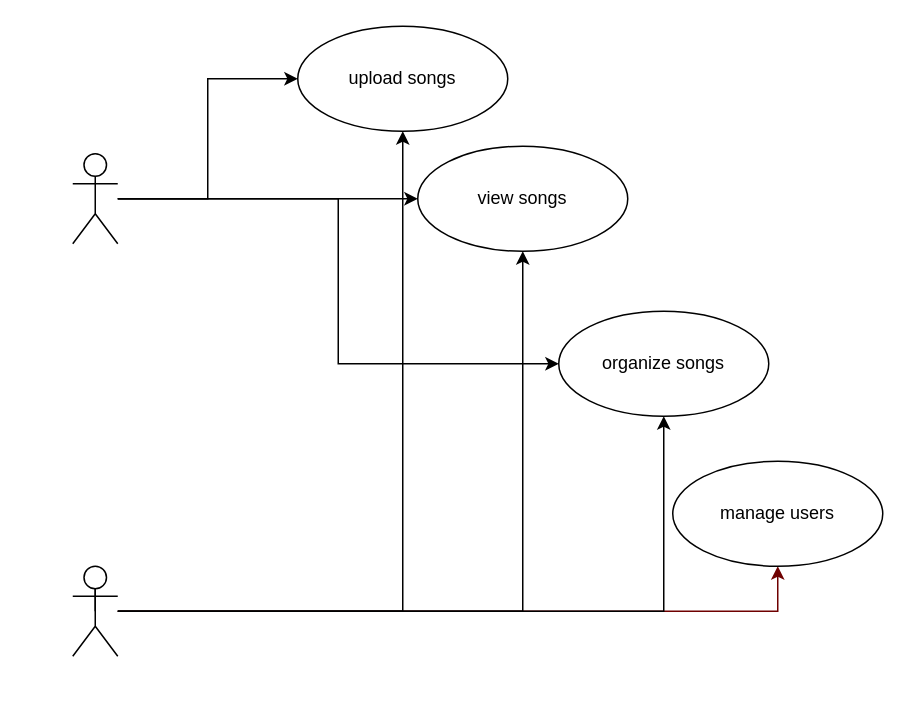
This 909x714 diagram has some shape labels left out. The shapes that lost their labels are listed below. From the top down, each one's box as (x1, y1, x2, y2) in pixels, then its label:
(71, 152, 118, 244): ministry_member
(71, 565, 118, 656): ministry_admin
